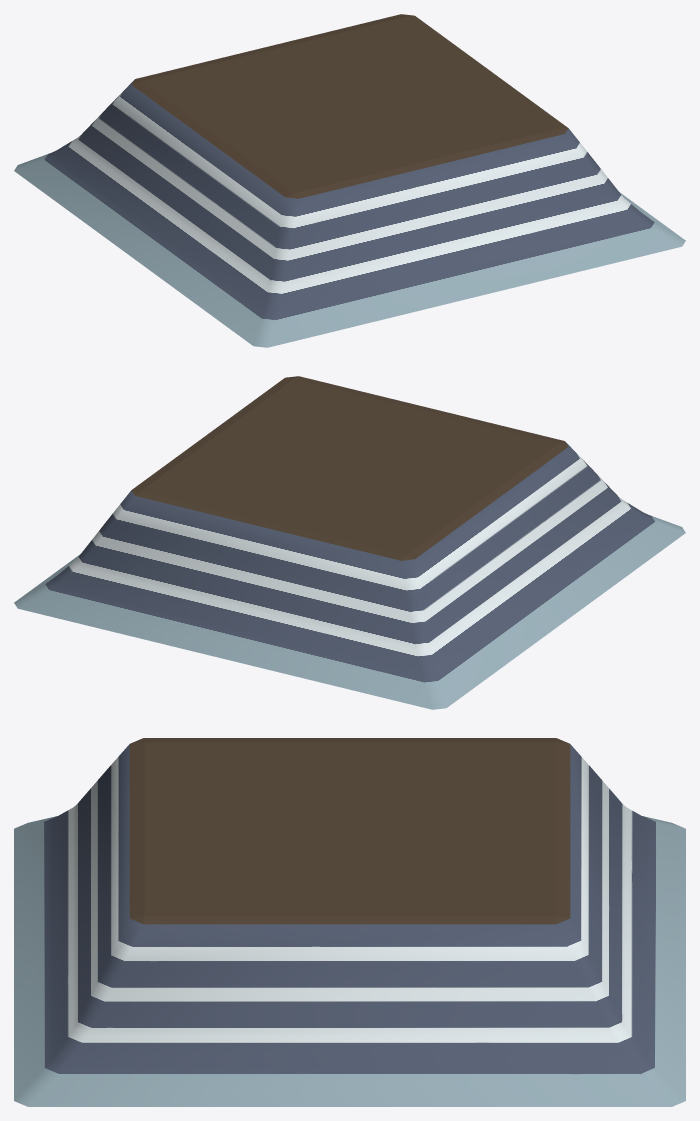
File: kotatsu.fbx
3 views of the same model, one above another, from view 1: azimuth 30°, elevation 25°; view 2: azimuth 150°, elevation 25°; view 3: azimuth 270°, elevation 25° (orthographic). The views are drawn at different scales.
Parts seen in each view (by area): view 1: Cube; view 2: Cube; view 3: Cube.
Part boxes in pixels (x1=…): Cube: x1=14, y1=14, x2=685, y2=347; Cube: x1=14, y1=376, x2=685, y2=709; Cube: x1=14, y1=738, x2=685, y2=1106.
Size of the model in its own units: 307 by 68.39 by 307.
